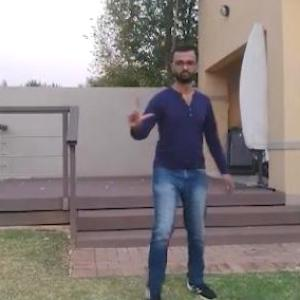land_hand: (125, 99, 158, 140)
